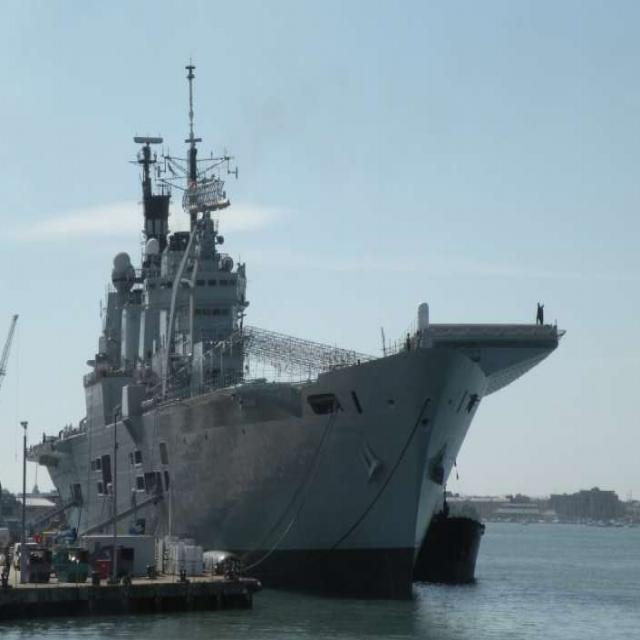Portanaves: (20, 52, 572, 607)
